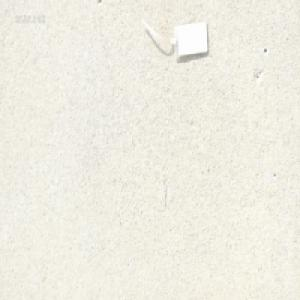LuggageTag: (137, 17, 210, 62)
